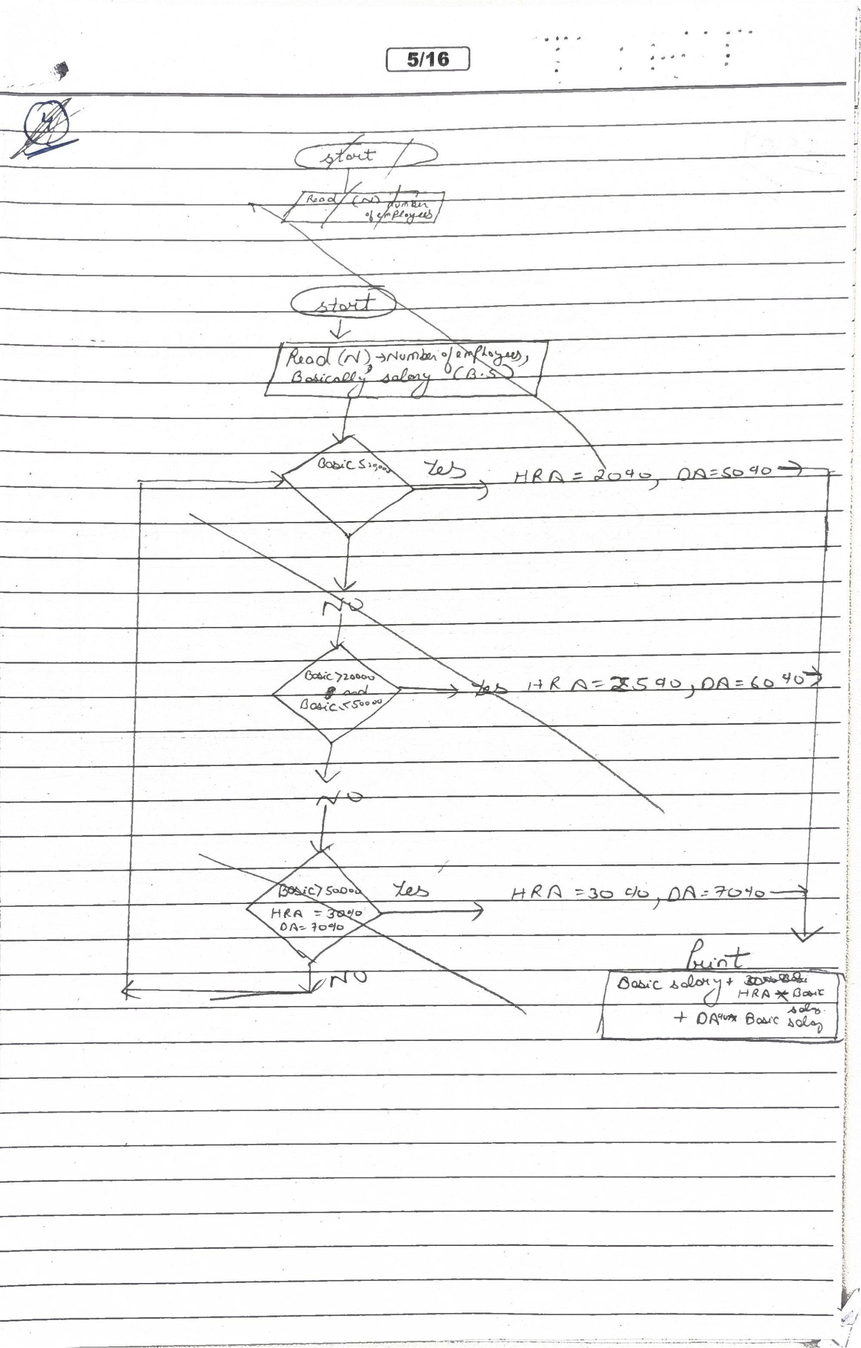cuttings: (120, 136, 846, 1056), (19, 97, 75, 145)
